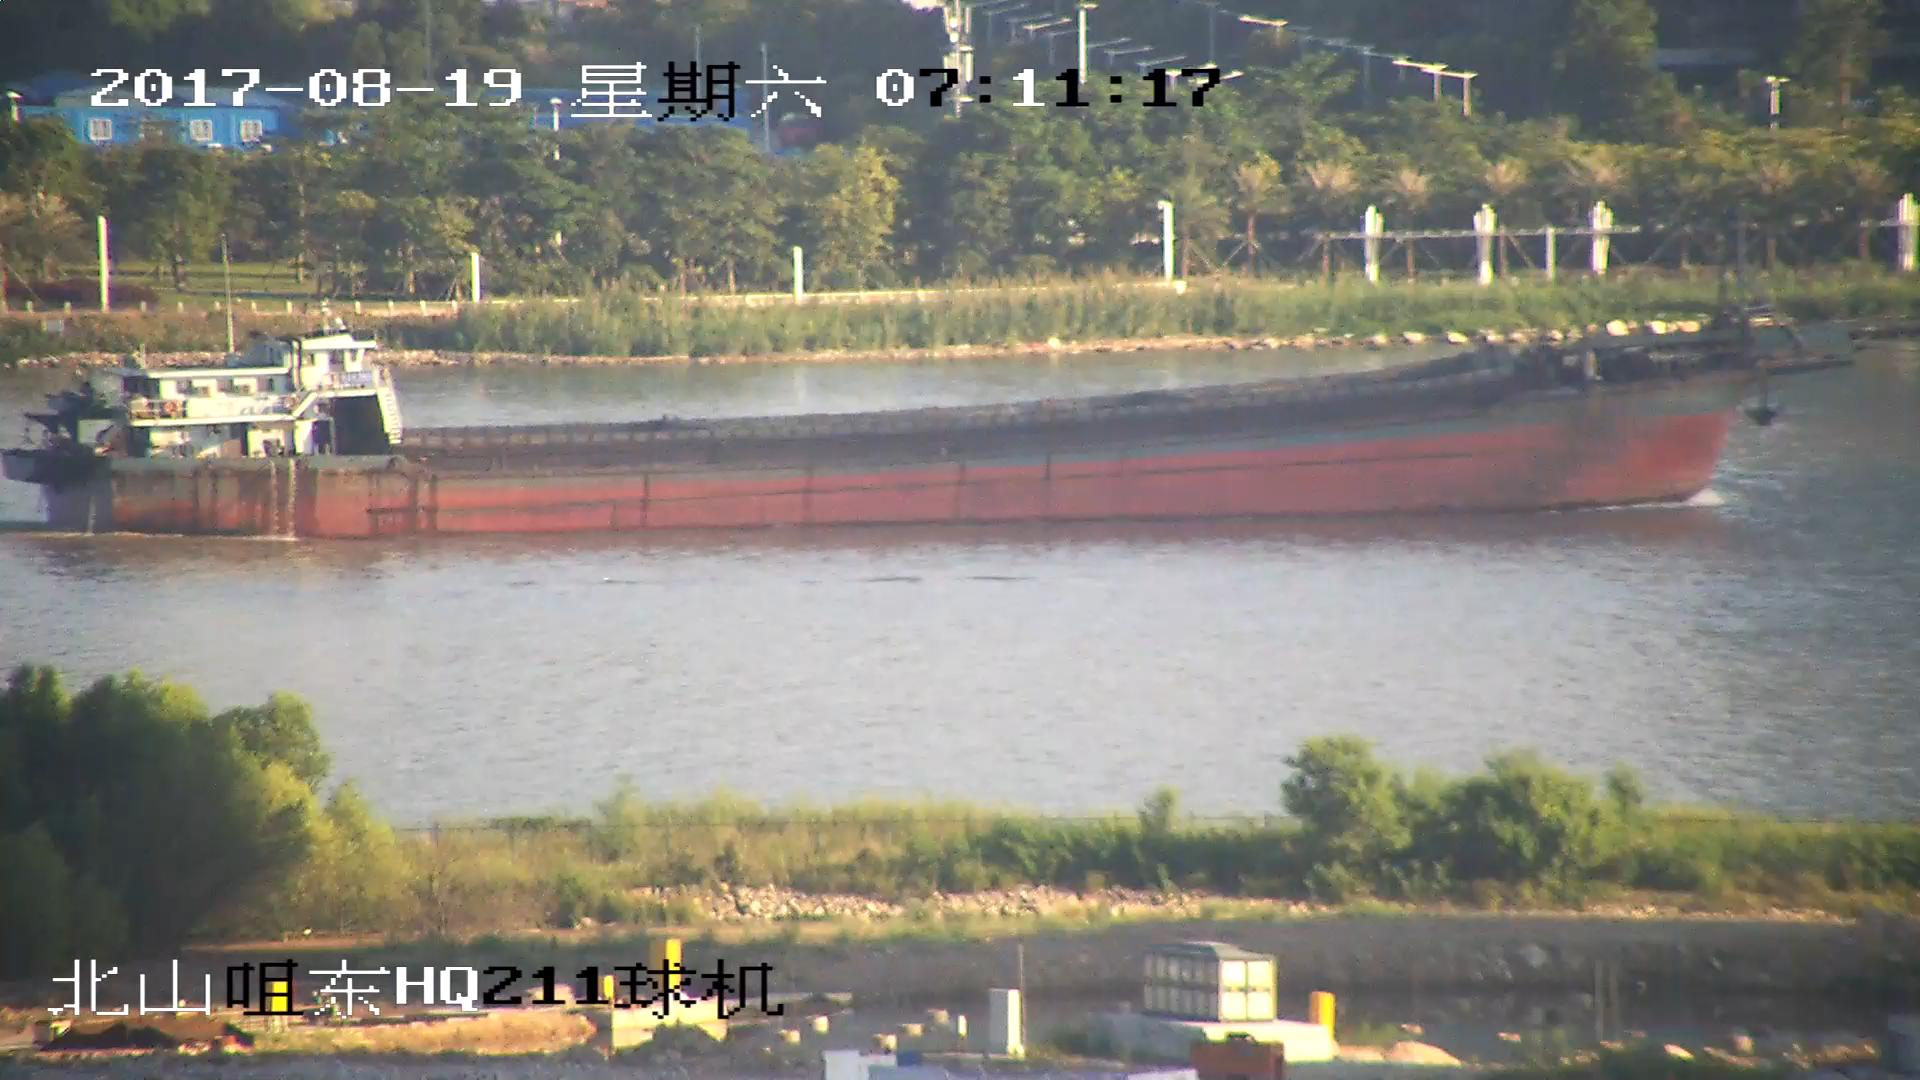bulk cargo carrier: (1, 240, 1920, 533)
